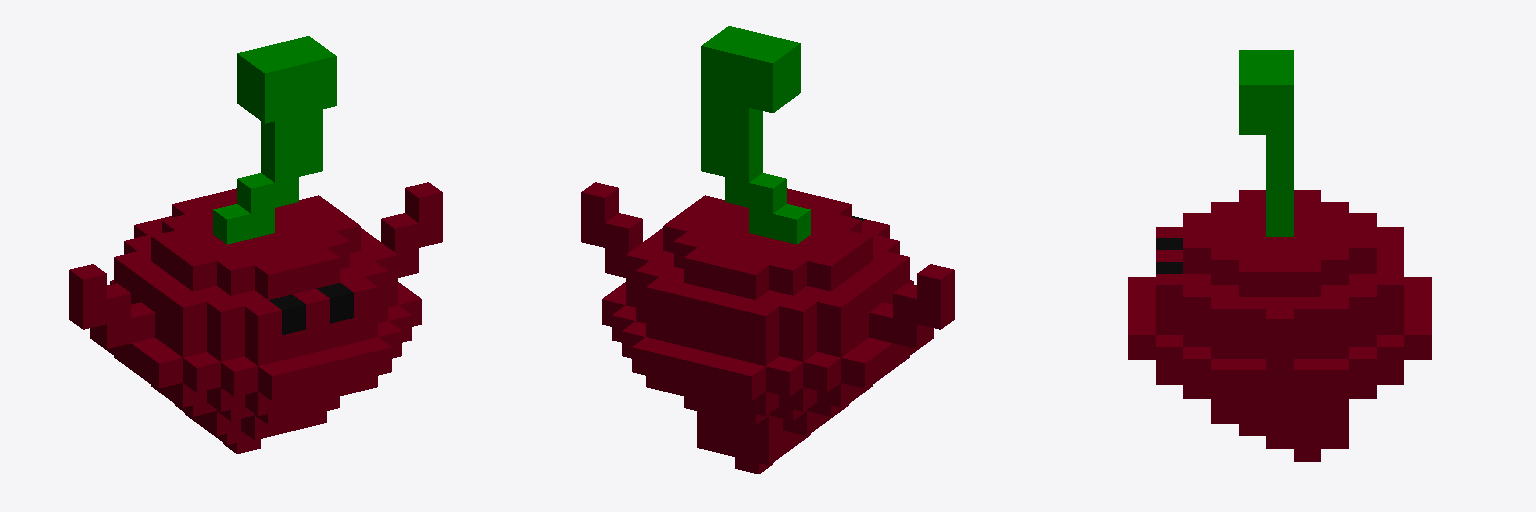
3 renders of one model, left to right at view 1: azimuth 30°, elevation 25°; view 2: azimuth 150°, elevation 25°; view 3: azimuth 270°, elevation 25°, orthographic.
Bounding box in the file's own units: 15 × 16 × 11.
Materials: 1 (1 with a texture image).